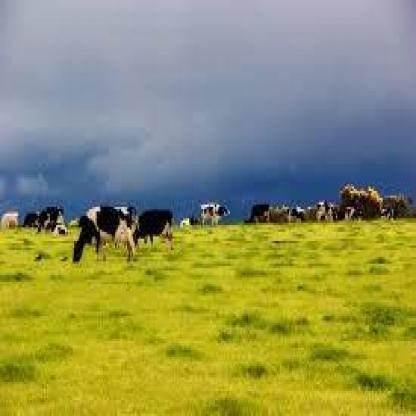cow: (72, 206, 138, 262), (132, 209, 174, 255), (38, 207, 66, 236), (200, 201, 231, 226), (314, 200, 339, 223), (244, 203, 271, 224), (0, 211, 18, 232), (180, 214, 201, 230), (287, 207, 308, 223), (344, 206, 362, 222), (22, 212, 39, 228), (380, 204, 396, 221)
